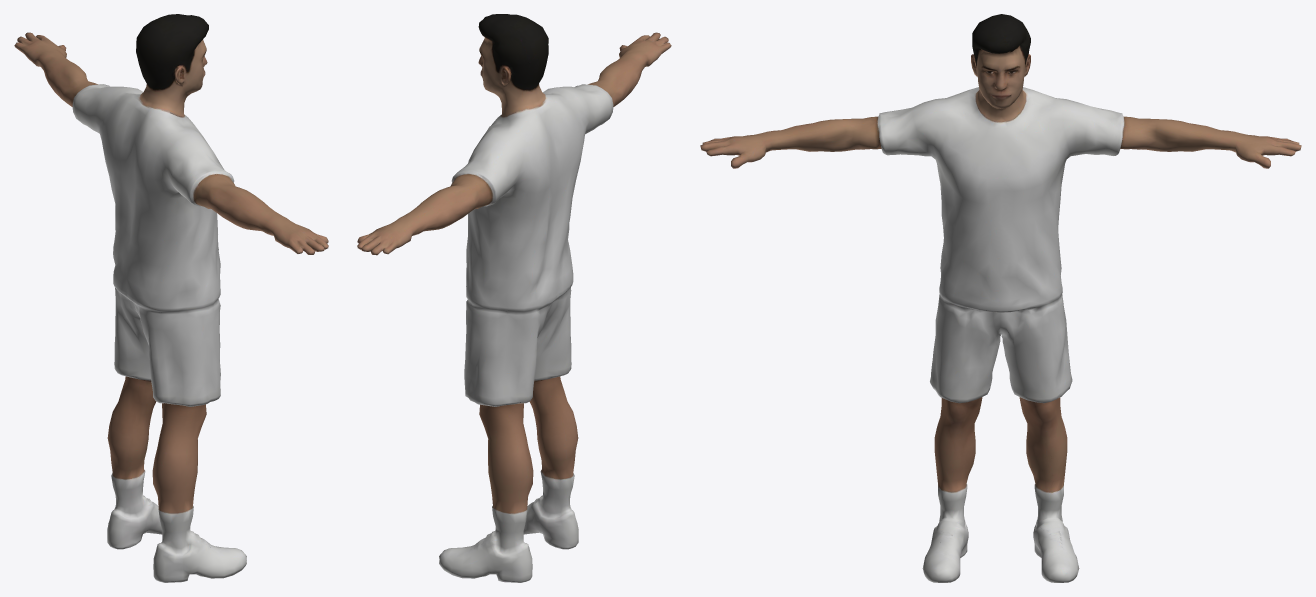
Rendered from spieler.glb.
3 renders of one model, left to right at view 1: azimuth 30°, elevation 25°; view 2: azimuth 150°, elevation 25°; view 3: azimuth 270°, elevation 25°, orthographic.
Visible parts, largest first — view 1: spieler; view 2: spieler; view 3: spieler.
Boxes of the visible parts, box(x1,y1,x2,y2) form: spieler: box(14, 14, 328, 582); spieler: box(357, 14, 671, 582); spieler: box(700, 14, 1301, 582).
Size of the model in its own units: 0.1816 by 0.998 by 0.998.
Materials: 1 (1 with a texture image).
